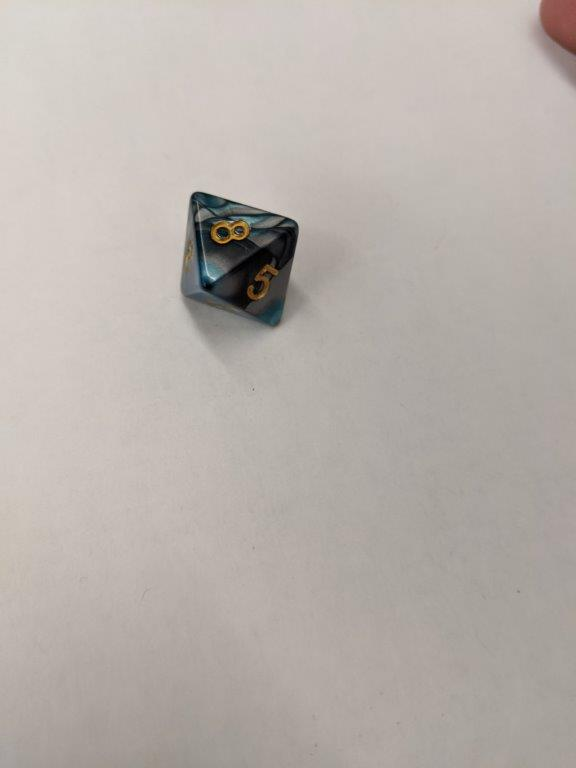d8-8: (171, 191, 303, 329)
